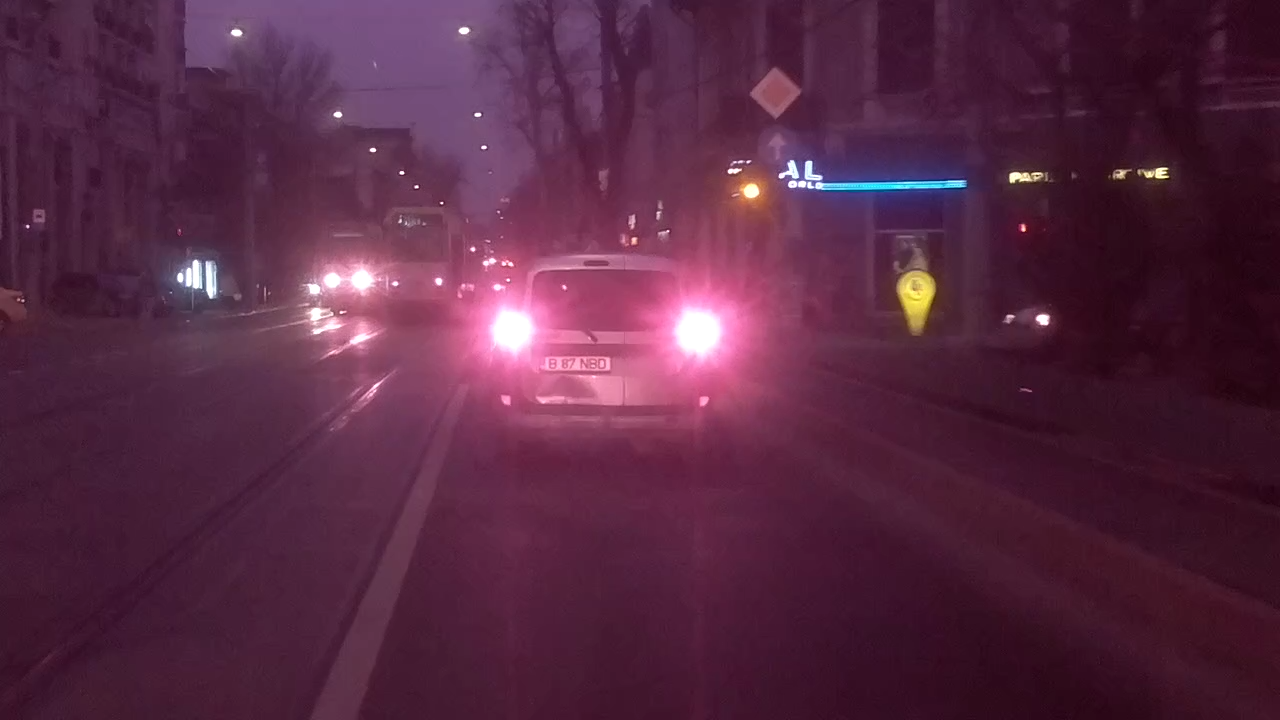license-plate: (534, 353, 613, 374)
